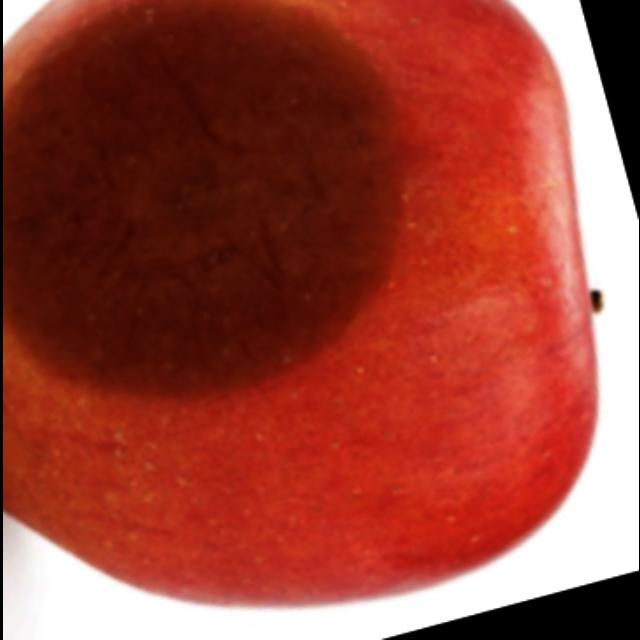Apel Segar: (19, 180, 602, 612)
Apel Tidak Segar: (2, 0, 521, 445)
